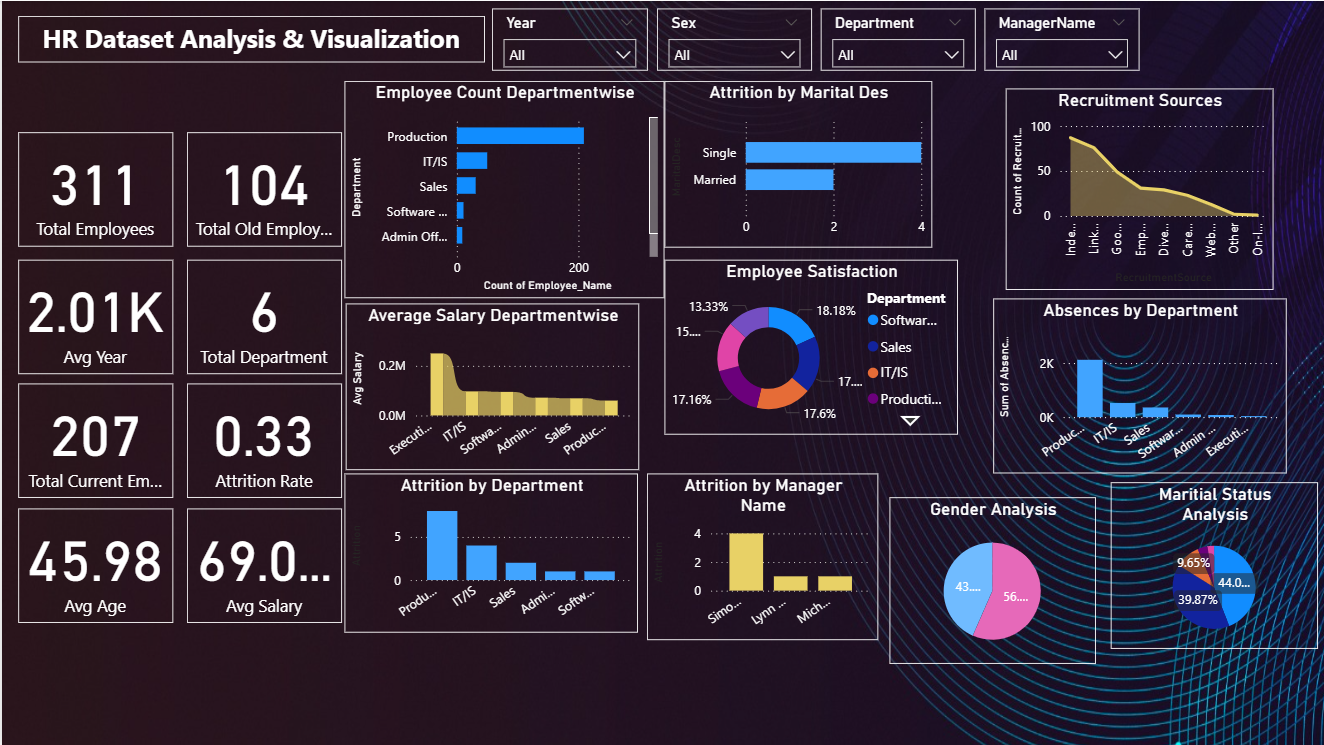

Layout of this report page (visuals, bound fields, positions):
{"tool":"powerbi","page":{"name":"Page 1","canvas":[1280,720],"ordinal":0},"visuals":[{"type":"textbox","box":[15.7,14.5,450,45],"z":0},{"type":"card","fields":{"Values":["AllEmployees.Total Employees"]},"box":[15.9,126.1,149.3,110.1],"z":1000},{"type":"card","fields":{"Values":["AllEmployees.Avg Salary"]},"box":[178.3,489.9,149.3,110.1],"z":2000},{"type":"card","fields":{"Values":["AllEmployees.Avg Year"]},"box":[15.9,249.3,149.3,110.1],"z":3000},{"type":"card","fields":{"Values":["AllEmployees.Total Current Employees"]},"box":[15.9,369.6,149.3,110.1],"z":4000},{"type":"card","fields":{"Values":["AllEmployees.Avg Age"]},"box":[15.9,489.9,149.3,110.1],"z":5000},{"type":"card","fields":{"Values":["AllEmployees.Total Department"]},"box":[178.3,249.3,149.3,110.1],"z":6000},{"type":"card","fields":{"Values":["AllEmployees.Attrition Rate"]},"box":[178.3,369.6,149.3,110.1],"z":7000},{"type":"card","fields":{"Values":["AllEmployees.Total Old Employees"]},"box":[178.3,126.1,149.3,110.1],"z":8000},{"type":"clusteredBarChart","title":"Employee Count Departmentwise","fields":{"Category":["AllEmployees.Department"],"Y":["AllEmployees.Employee_Name"]},"box":[330.6,77.2,308.8,209.9],"z":9000},{"type":"pieChart","title":"Gender Analysis ","fields":{"Category":["AllEmployees.Sex"],"Y":["AllEmployees.Sex"]},"box":[856.6,479,199.1,160.5],"z":10000},{"type":"pieChart","title":"Maritial Status Analysis","fields":{"Category":["AllEmployees.MaritalDesc"],"Y":["AllEmployees.MaritalDesc"]},"box":[1070.1,464.5,200.3,160.5],"z":11000},{"type":"ribbonChart","title":"Average Salary Departmentwise","fields":{"Category":["AllEmployees.Department"],"Y":["AllEmployees.Avg Salary"]},"box":[331.8,292,283.5,160.5],"z":12000},{"type":"clusteredColumnChart","title":"Absences by Department","fields":{"Category":["AllEmployees.Department"],"Y":["AllEmployees.Absences"]},"box":[956.7,287.1,283.5,168.9],"z":13000},{"type":"stackedAreaChart","title":"Recruitment Sources","fields":{"Category":["AllEmployees.RecruitmentSource"],"Y":["AllEmployees.RecruitmentSource"]},"box":[968.8,84.5,258.2,194.2],"z":14000},{"type":"donutChart","title":"Employee Satisfaction ","fields":{"Category":["AllEmployees.Department"],"Y":["AllEmployees.EmpSatisfaction"]},"box":[639.4,249.7,283.5,168.9],"z":15000},{"type":"columnChart","title":"Attrition by Department","fields":{"Category":["AllEmployees.Department"],"Y":["AllEmployees.Attrition"]},"box":[330.6,456,283.5,153.2],"z":16000},{"type":"columnChart","title":"Attrition by Manager Name","fields":{"Y":["AllEmployees.Attrition"],"Category":["AllEmployees.ManagerName"]},"box":[622.5,456,223.2,160.5],"z":17000},{"type":"barChart","title":"Attrition by Marital Des","fields":{"Y":["AllEmployees.Attrition"],"Category":["AllEmployees.MaritalDesc"]},"box":[639.4,77.2,258.2,160.5],"z":18000},{"type":"slicer","fields":{"Values":["AllEmployees.Department"]},"box":[790.2,7.2,149.6,60.3],"z":19000},{"type":"slicer","fields":{"Values":["AllEmployees.Year"]},"box":[472.9,7.2,150,60.3],"z":20000},{"type":"slicer","title":"Manager Name","fields":{"Values":["AllEmployees.ManagerName"]},"box":[948.3,7.2,149.6,60.3],"z":21000},{"type":"slicer","fields":{"Values":["AllEmployees.Sex"]},"box":[632.2,7.2,149.6,60.3],"z":22000}]}

Visuals, with their boxes in screenshot pixels (x1, y1, x2, y2), scaled from the page's 1280x720 canvas onto the 1324x745 screenshot:
textbox: bbox(16, 15, 482, 62)
card - AllEmployees.Total Employees: bbox(16, 130, 171, 244)
card - AllEmployees.Avg Salary: bbox(184, 507, 339, 621)
card - AllEmployees.Avg Year: bbox(16, 258, 171, 372)
card - AllEmployees.Total Current Employees: bbox(16, 382, 171, 496)
card - AllEmployees.Avg Age: bbox(16, 507, 171, 621)
card - AllEmployees.Total Department: bbox(184, 258, 339, 372)
card - AllEmployees.Attrition Rate: bbox(184, 382, 339, 496)
card - AllEmployees.Total Old Employees: bbox(184, 130, 339, 244)
"Employee Count Departmentwise" clusteredBarChart: bbox(342, 80, 661, 297)
"Gender Analysis " pieChart: bbox(886, 496, 1092, 662)
"Maritial Status Analysis" pieChart: bbox(1107, 481, 1314, 647)
"Average Salary Departmentwise" ribbonChart: bbox(343, 302, 636, 468)
"Absences by Department" clusteredColumnChart: bbox(990, 297, 1283, 472)
"Recruitment Sources" stackedAreaChart: bbox(1002, 87, 1269, 288)
"Employee Satisfaction " donutChart: bbox(661, 258, 955, 433)
"Attrition by Department" columnChart: bbox(342, 472, 635, 630)
"Attrition by Manager Name" columnChart: bbox(644, 472, 875, 638)
"Attrition by Marital Des" barChart: bbox(661, 80, 928, 246)
slicer - AllEmployees.Department: bbox(817, 7, 972, 70)
slicer - AllEmployees.Year: bbox(489, 7, 644, 70)
"Manager Name" slicer: bbox(981, 7, 1136, 70)
slicer - AllEmployees.Sex: bbox(654, 7, 809, 70)
